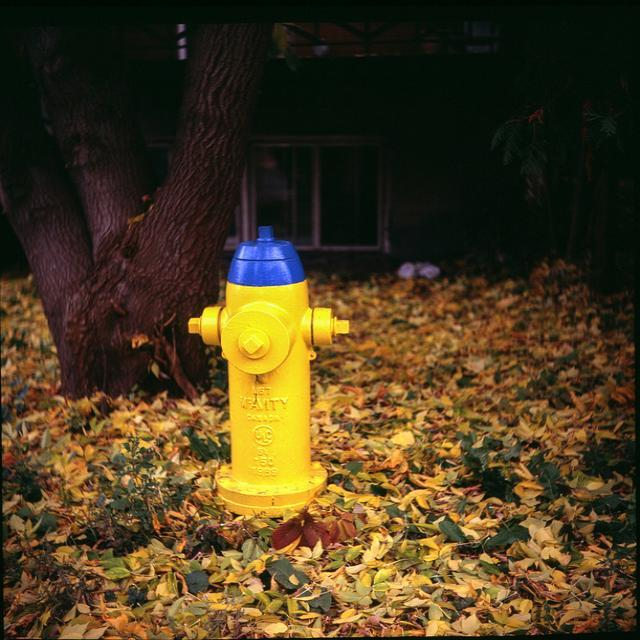fire_hydrant: (186, 223, 352, 522)
